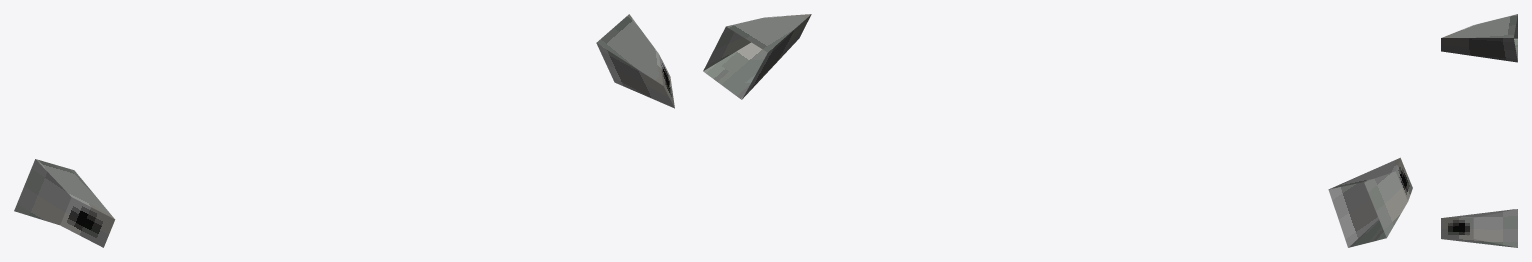
Rendered from hutt_fighter_medium_weapon2_s03_l2.fbx.
3 views of the same model, side by side, from view 1: azimuth 30°, elevation 25°; view 2: azimuth 150°, elevation 25°; view 3: azimuth 270°, elevation 25° (orthographic). The views are drawn at different scales.
Parts seen in each view (by area): view 1: mesh_node; view 2: mesh_node; view 3: mesh_node.
Boxes of the visible parts, x1=… form: mesh_node: x1=14, y1=14, x2=674, y2=247; mesh_node: x1=703, y1=14, x2=1412, y2=247; mesh_node: x1=1441, y1=14, x2=1517, y2=247.
Size of the model in its own units: 3.25 by 0.3163 by 0.5037.
